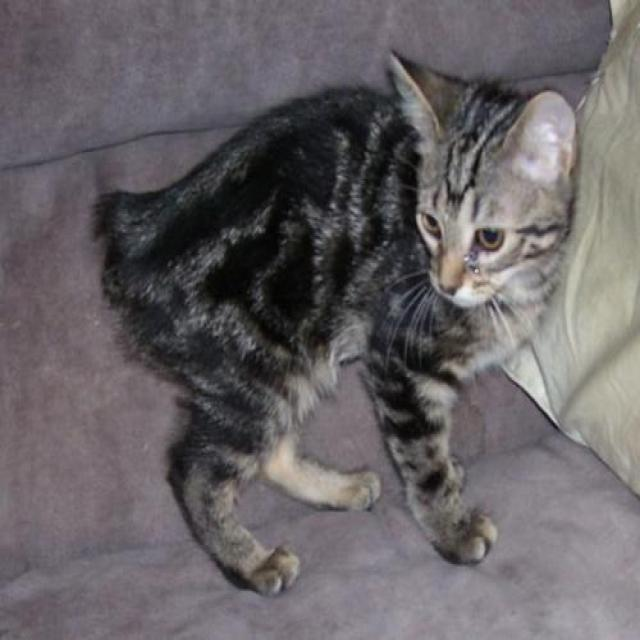Cats: (90, 48, 580, 597)
